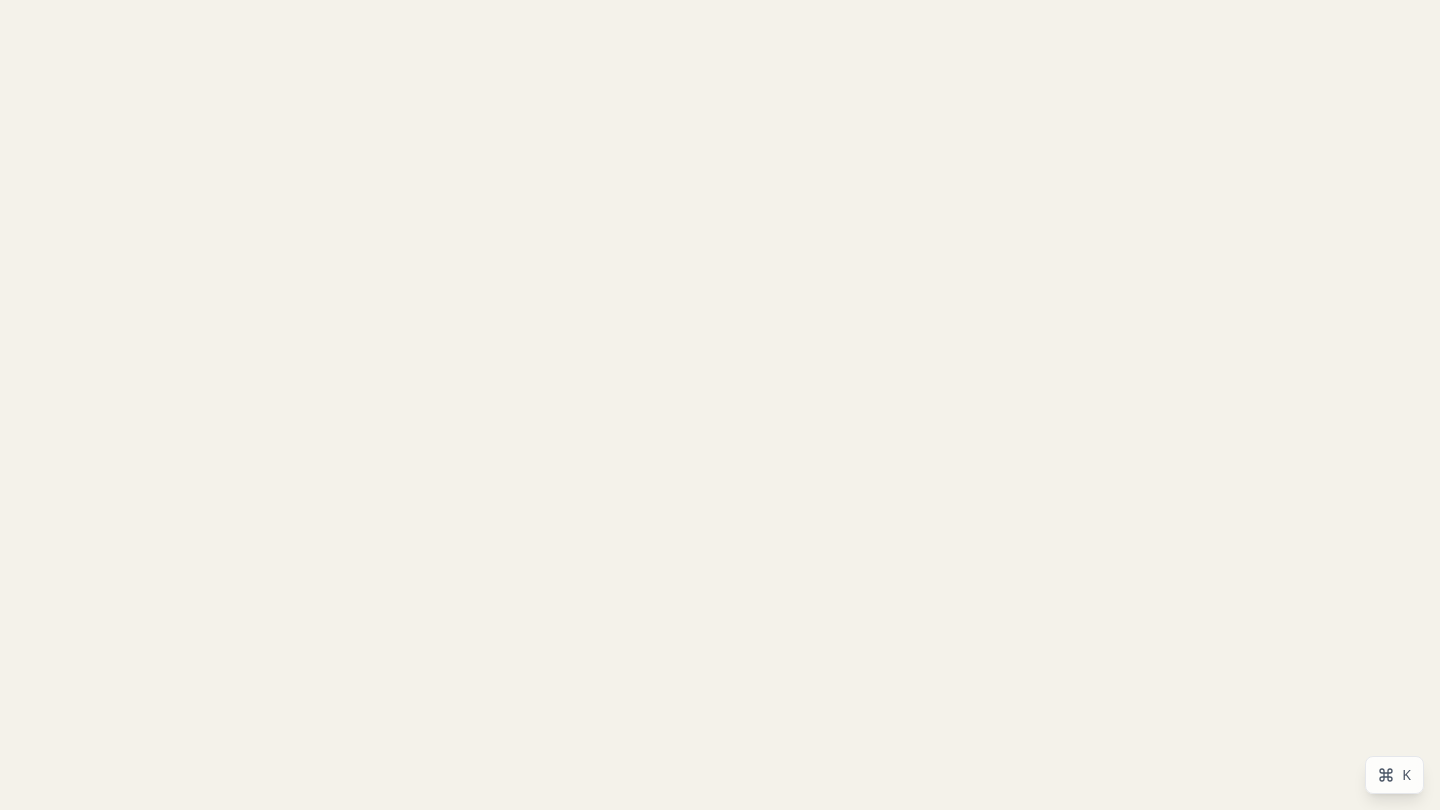
Test: CommandPalette › Search Filtering › shows no results message when no commands match
Step 1. Press k
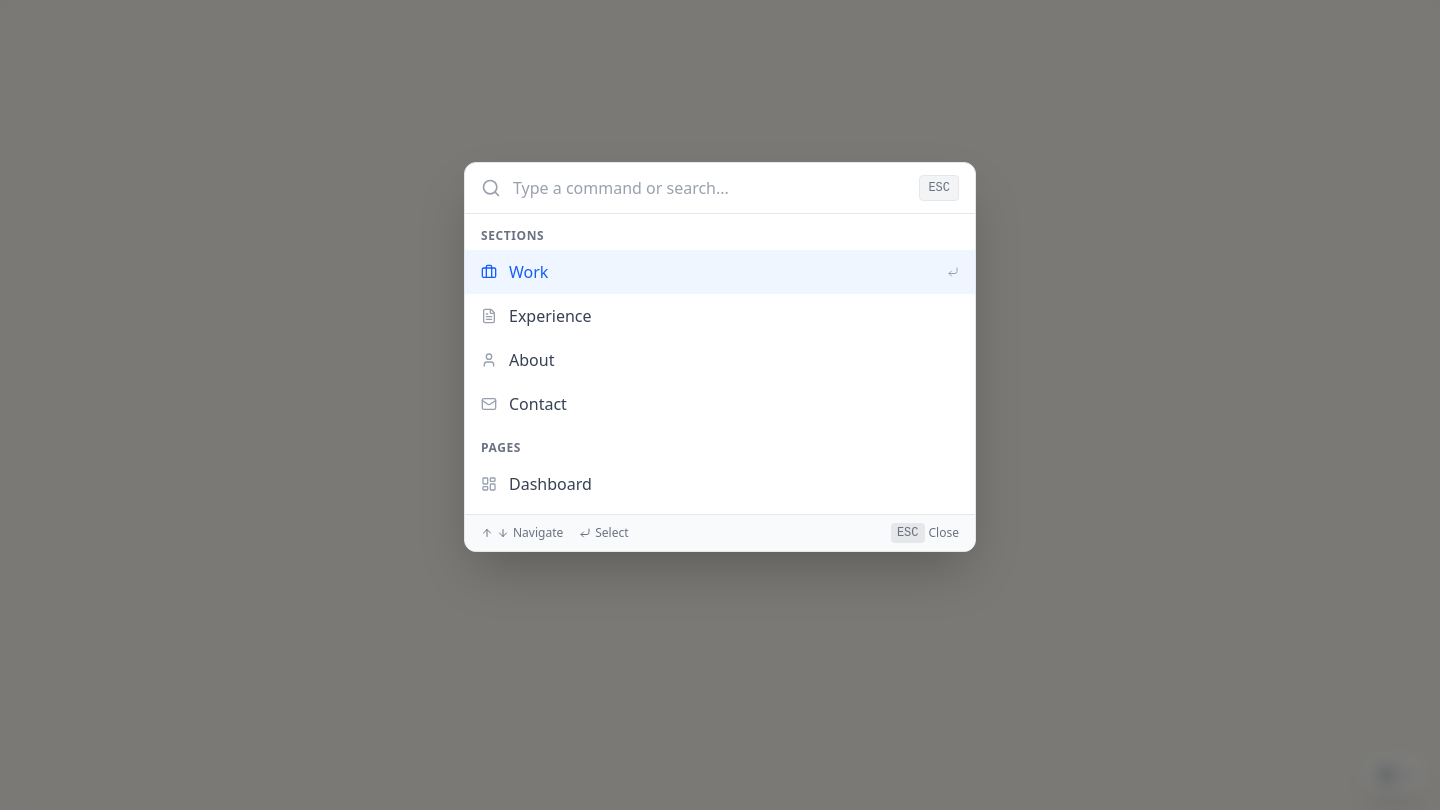
Expected: the dialog named "command palette" is shown, [464,162,976,552]
Step 2. Type "zzzznonexistent" into the field named "search commands" → (710, 188), box [513,176,907,200]
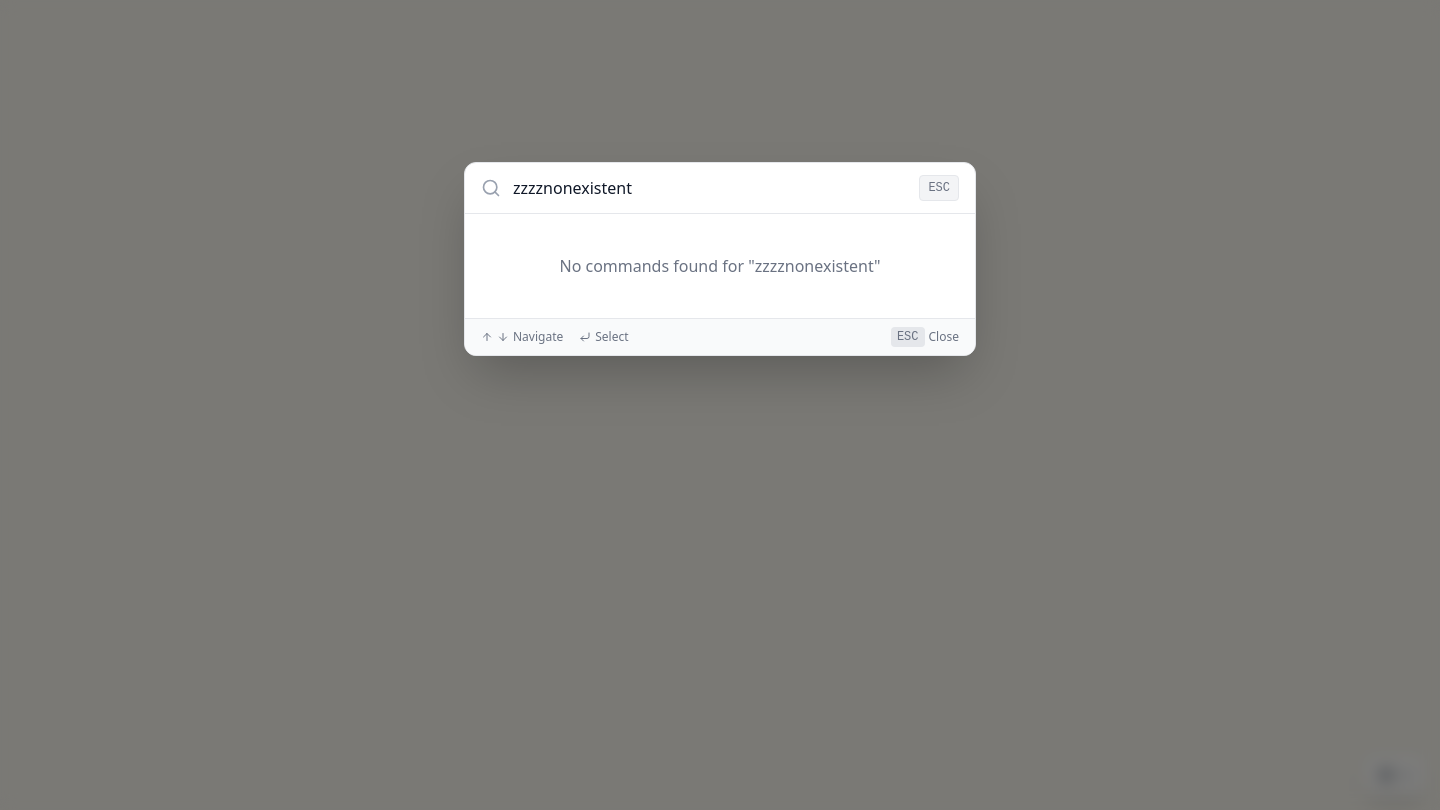
Expected: the text "No commands found for \"zzzznonexistent\"" is shown, [560,255,881,277]
